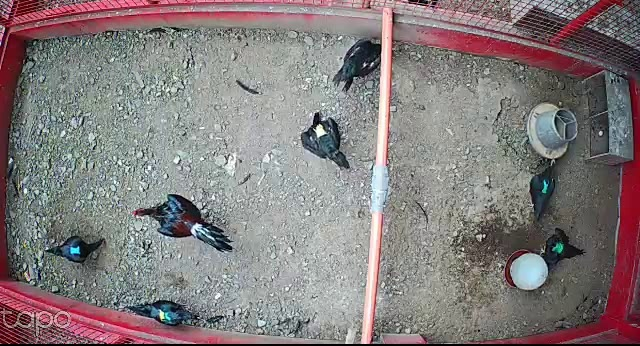Chicken: (291, 106, 353, 169), (333, 30, 386, 94), (126, 293, 202, 329), (40, 230, 105, 265), (528, 155, 559, 225), (534, 228, 588, 266)
Drinker: (503, 248, 551, 294)
Feeder: (526, 103, 579, 160)
Rooster: (132, 192, 239, 255)
Saddle_Color_Blue: (70, 245, 81, 255)
Saddle_Color_Yellow: (312, 125, 328, 138)
Saddle_Color_YellowGreen: (159, 308, 174, 322)
